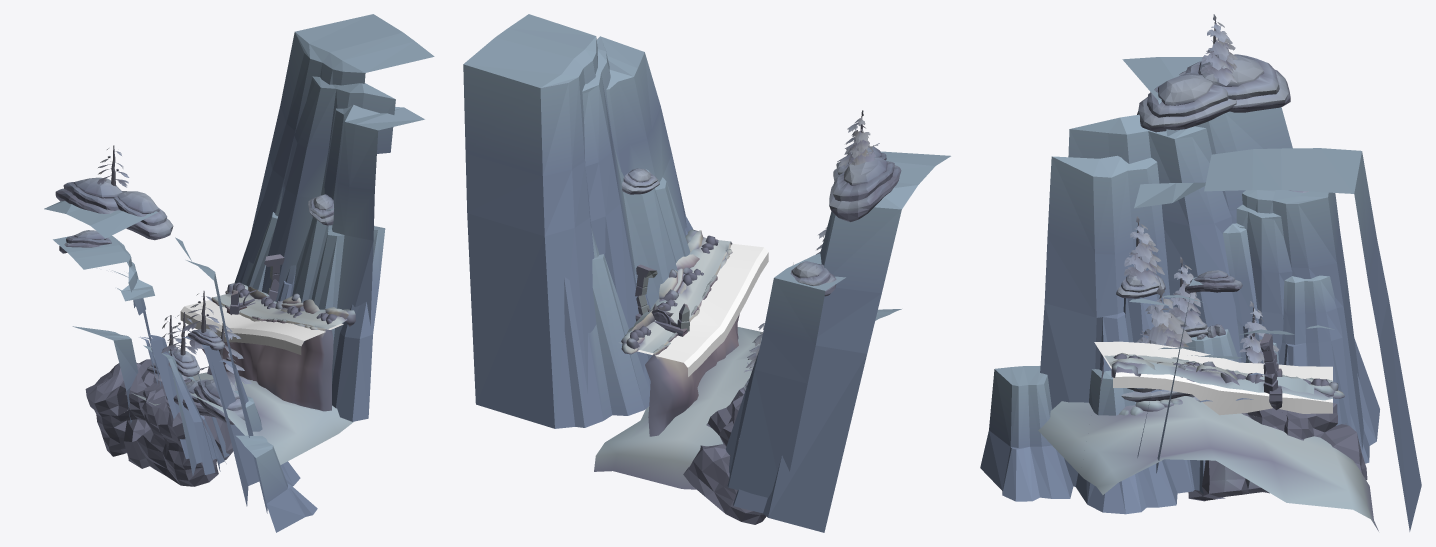
Rendered from Arctic_Narrows_Left_Curve_Left_15_B_Jump_B.glb.
The picture shows the model from 3 angles, left to right: view 1: azimuth 30°, elevation 25°; view 2: azimuth 150°, elevation 25°; view 3: azimuth 270°, elevation 25°; orthographic projection. The views are drawn at different scales.
Visible parts, largest first — view 1: Arctic_Narrows_Left_IceWall_A01 (1), Arctic_Narrows_Left_Curve_Left_15_B, Arctic_Narrows_Right_IceWall_A01 (1), Arctic_Narrows_Left_IceWall_A01_Right, Arctic_Narrows_Right_IceWall_A02 (1), Arctic_Narrows_Big_Rock_A01_Top (×2), Arctic_Narrows_Right_IceWall_A01_Left, inv_fill, Arctic_Narrows_Big_Rock_A01_Mid (×2), Arctic_Narrows_Big_Rock_A01 (2), Arctic_Narrows_Left_IceWall_A01_Left, Arctic_Narrows_Right_Snow_A01_Top (×2) (+7 smaller); view 2: Arctic_Narrows_Left_IceWall_A01 (1), Arctic_Narrows_Right_IceWall_A01 (1), Arctic_Narrows_Left_Curve_Left_15_B, Arctic_Narrows_Right_IceWall_A02 (1), Arctic_Narrows_Left_IceWall_A01_Left, inv_fill, Arctic_Narrows_Big_Rock_A01 (3), Arctic_Narrows_Right_Snow_A01 (9), Arctic_Narrows_Big_Rock_A01_Mid, Arctic_Narrows_Right_Snow_A01_Mid, Arctic_Narrows_Right_Snow_A01_Top, Arctic_Narrows_Right_IceWall_A02_Right; view 3: Arctic_Narrows_Right_IceWall_A01 (1), Arctic_Narrows_Left_Curve_Left_15_B, Arctic_Narrows_Left_IceWall_A01 (1), Arctic_Narrows_Right_IceWall_A01_Left, Arctic_Narrows_Right_IceWall_A02 (1), inv_fill, Arctic_Narrows_Right_IceWall_A02_Right, Arctic_Narrows_Right_IceWall_A01_Mid, Arctic_Narrows_Right_Snow_A01_Mid (×2), Arctic_Narrows_Right_Snow_A01_Top (×2), Arctic_Pine_A_leavesBottom (×3), Arctic_Narrows_Big_Rock_A01_Mid (+8 smaller).
Boxes of the visible parts, left/top/right/bottom form: Arctic_Narrows_Left_IceWall_A01 (1): left=237, top=14, right=434, bottom=383; Arctic_Narrows_Left_Curve_Left_15_B: left=132, top=283, right=355, bottom=464; Arctic_Narrows_Right_IceWall_A01 (1): left=44, top=201, right=267, bottom=513; Arctic_Narrows_Left_IceWall_A01_Right: left=332, top=225, right=385, bottom=421; Arctic_Narrows_Right_IceWall_A02 (1): left=53, top=235, right=201, bottom=475; Arctic_Narrows_Big_Rock_A01_Top (×2): left=85, top=359, right=191, bottom=441; Arctic_Narrows_Right_IceWall_A01_Left: left=233, top=390, right=317, bottom=532; inv_fill: left=180, top=300, right=343, bottom=354; Arctic_Narrows_Big_Rock_A01_Mid (×2): left=94, top=408, right=212, bottom=465; Arctic_Narrows_Big_Rock_A01 (2): left=137, top=417, right=233, bottom=486; Arctic_Narrows_Left_IceWall_A01_Left: left=234, top=187, right=283, bottom=291; Arctic_Narrows_Right_Snow_A01_Top (×2): left=74, top=177, right=159, bottom=213; Arctic_Narrows_Left_IceWall_A01 (1): left=463, top=14, right=690, bottom=428; Arctic_Narrows_Right_IceWall_A01 (1): left=763, top=151, right=950, bottom=532; Arctic_Narrows_Left_Curve_Left_15_B: left=594, top=229, right=762, bottom=489; Arctic_Narrows_Right_IceWall_A02 (1): left=727, top=253, right=845, bottom=497; Arctic_Narrows_Left_IceWall_A01_Left: left=564, top=226, right=649, bottom=427; inv_fill: left=637, top=243, right=768, bottom=376; Arctic_Narrows_Big_Rock_A01 (3): left=683, top=445, right=766, bottom=524; Arctic_Narrows_Right_Snow_A01 (9): left=829, top=165, right=901, bottom=221; Arctic_Narrows_Big_Rock_A01_Mid: left=701, top=408, right=738, bottom=477; Arctic_Narrows_Right_Snow_A01_Mid: left=832, top=161, right=894, bottom=201; Arctic_Narrows_Right_Snow_A01_Top: left=844, top=157, right=887, bottom=185; Arctic_Narrows_Right_IceWall_A02_Right: left=725, top=351, right=758, bottom=473; Arctic_Narrows_Right_IceWall_A01 (1): left=1040, top=57, right=1379, bottom=493; Arctic_Narrows_Left_Curve_Left_15_B: left=1038, top=353, right=1378, bottom=531; Arctic_Narrows_Left_IceWall_A01 (1): left=1134, top=148, right=1421, bottom=531; Arctic_Narrows_Right_IceWall_A01_Left: left=980, top=365, right=1177, bottom=514; Arctic_Narrows_Right_IceWall_A02 (1): left=1235, top=190, right=1363, bottom=450; inv_fill: left=1094, top=341, right=1332, bottom=415; Arctic_Narrows_Right_IceWall_A02_Right: left=1278, top=275, right=1351, bottom=427; Arctic_Narrows_Right_IceWall_A01_Mid: left=1185, top=223, right=1263, bottom=494; Arctic_Narrows_Right_Snow_A01_Mid (×2): left=1147, top=54, right=1279, bottom=117; Arctic_Narrows_Right_Snow_A01_Top (×2): left=1158, top=55, right=1264, bottom=105; Arctic_Pine_A_leavesBottom (×3): left=1124, top=52, right=1237, bottom=328; Arctic_Narrows_Big_Rock_A01_Mid: left=1282, top=403, right=1356, bottom=446.
Size of what is drawn, in the model's own units: 24.68 by 23.75 by 20.83.
